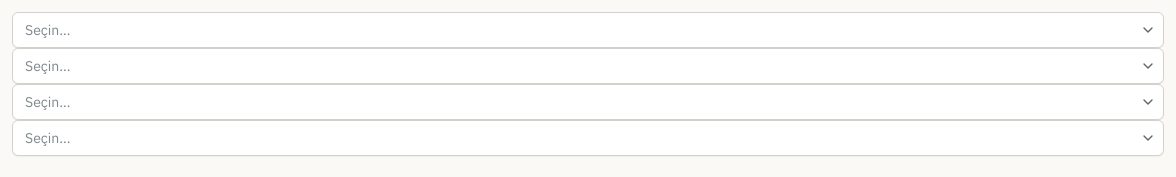
Test case: reference selects › offers only company-active currencies and reports the picked row
The width and height of the screenshot is (1176, 177).
Click the dropdown named "Para": (588, 30) [12, 12, 1164, 48]
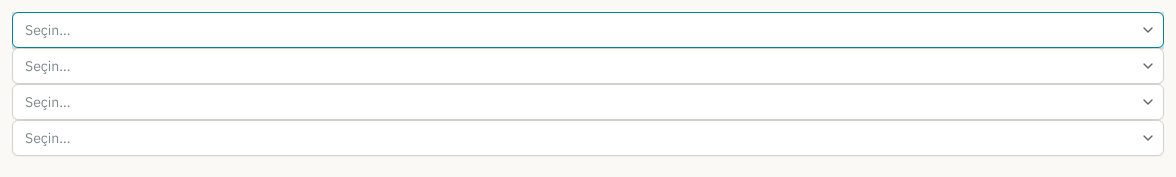
Press Arrowdown
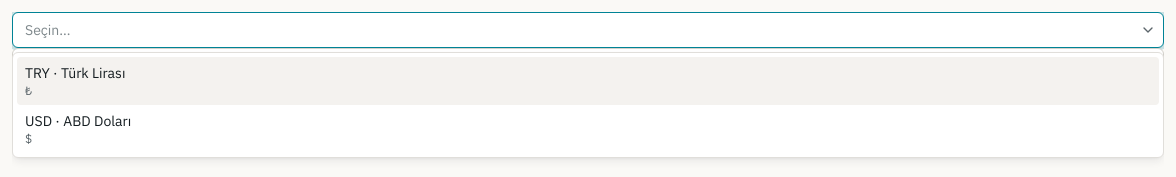
Result: the option "USD · ABD Doları $" is shown
Click the option "USD · ABD Doları $": (78, 129) [25, 112, 131, 146]
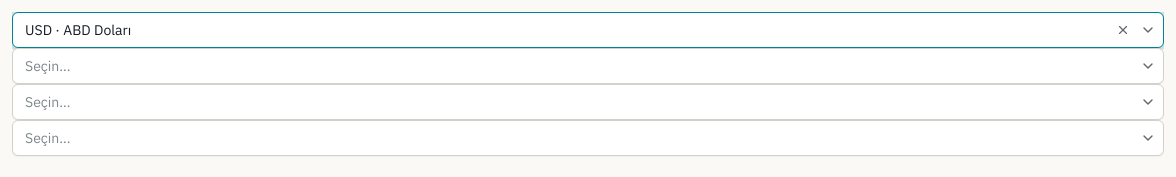
Result: the dropdown named "Para" holds "USD · ABD Doları" at [12, 12, 1164, 48]
